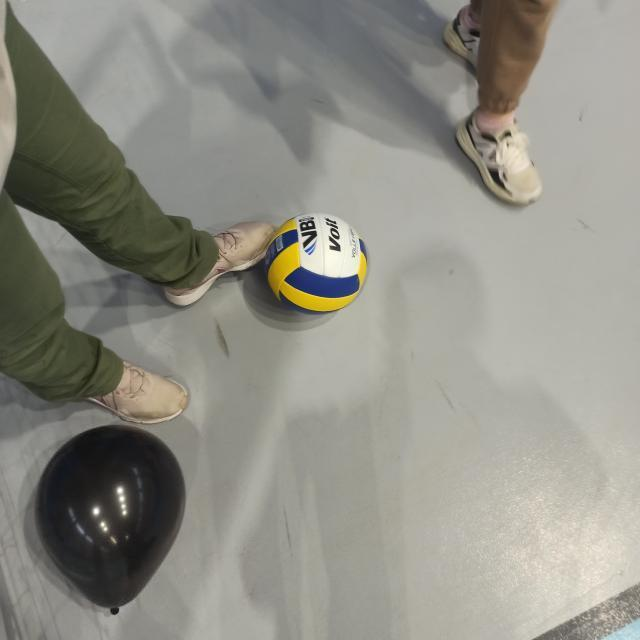balloon: (35, 422, 188, 612)
